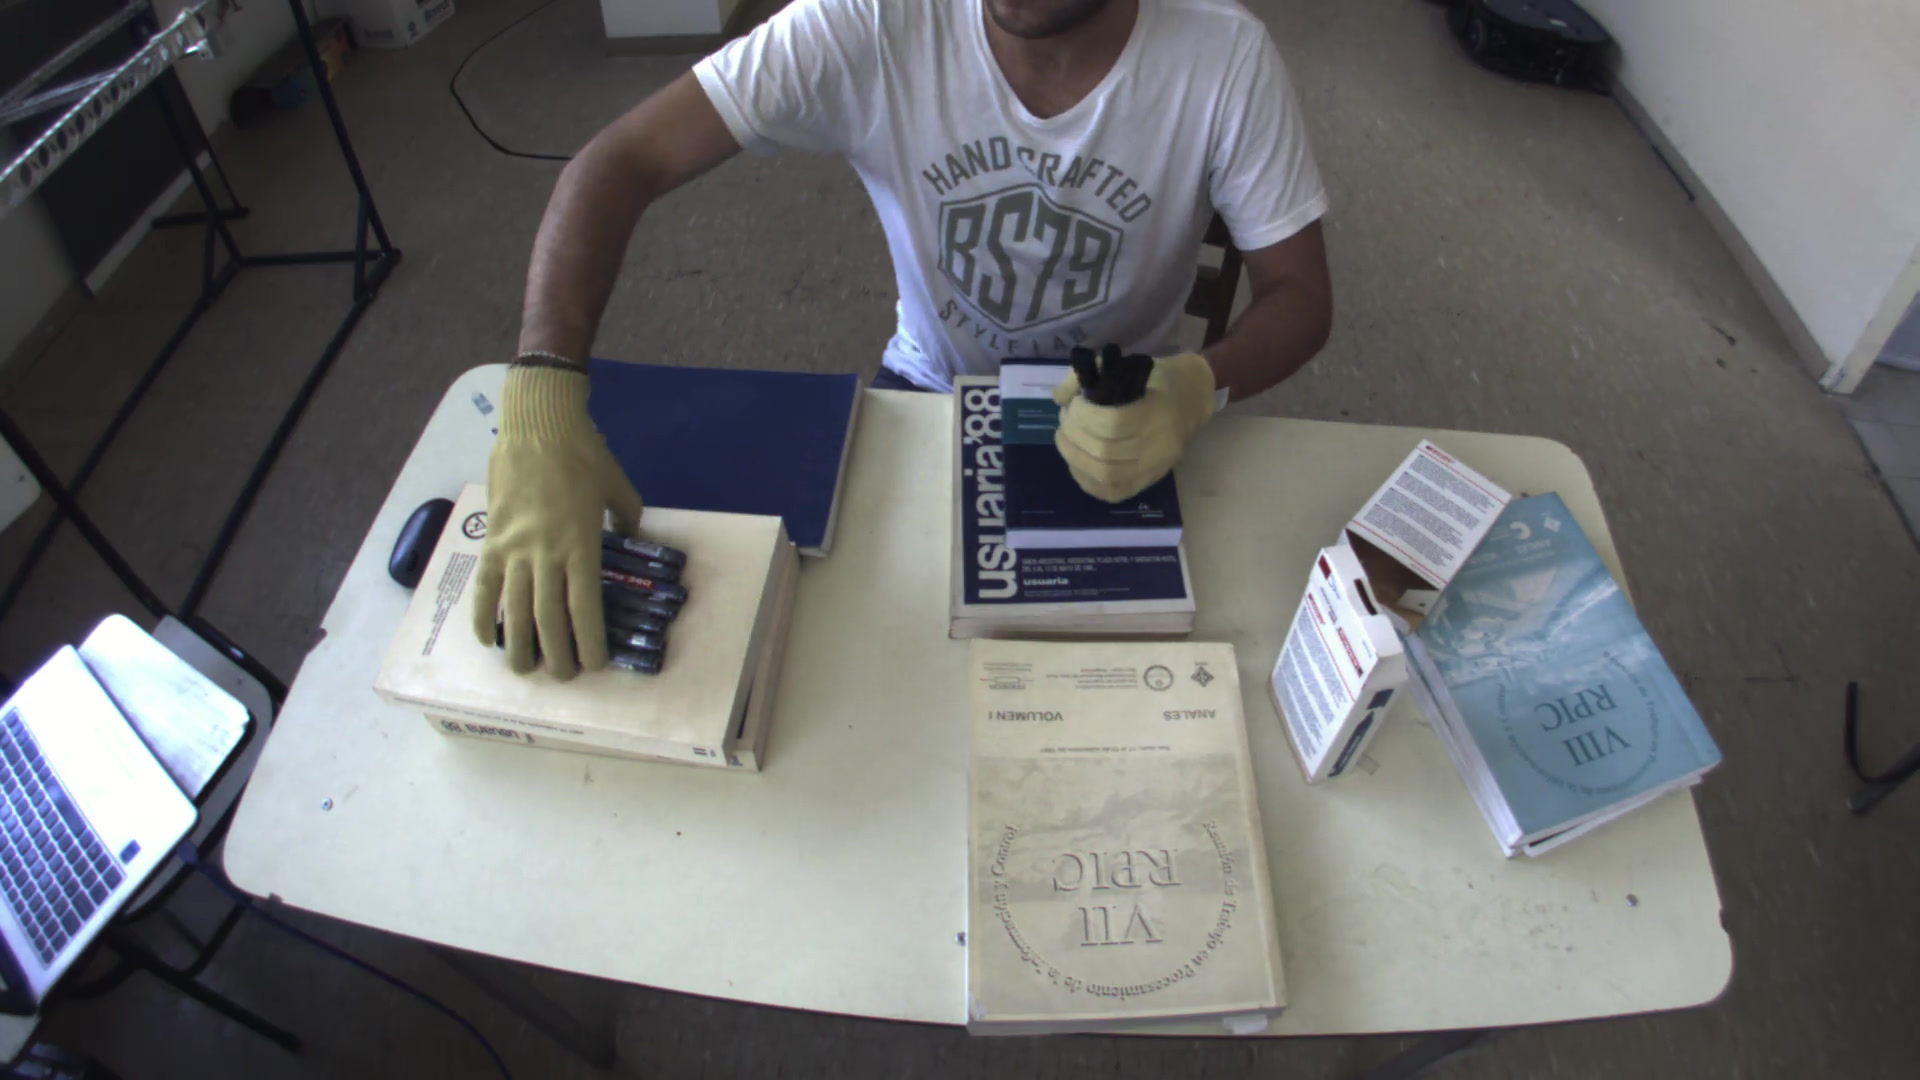hand: (458, 339, 646, 692), (1034, 336, 1234, 510)
